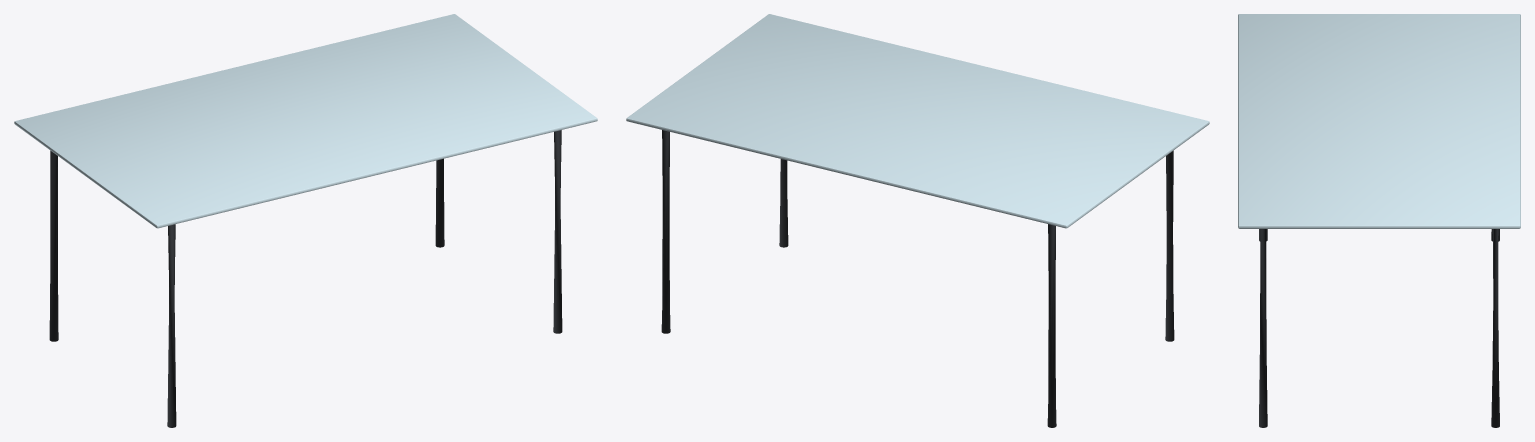
The model's file is table_glass.glb.
The picture shows the model from 3 angles, left to right: view 1: azimuth 30°, elevation 25°; view 2: azimuth 150°, elevation 25°; view 3: azimuth 270°, elevation 25°; orthographic projection.
Visible parts, largest first — view 1: box, tube, tube.001; view 2: box, tube, tube.001; view 3: box, tube.001.
Part boxes in pixels (x1,y1,x2,y2): box: (14,14,597,228); tube: (49,150,176,427); tube.001: (435,130,562,333); box: (626,14,1209,228); tube: (1047,150,1174,427); tube.001: (661,130,788,333); box: (1238,14,1520,228); tube.001: (1259,229,1499,427).
Size of the model in its own units: 160 by 75 by 90.
